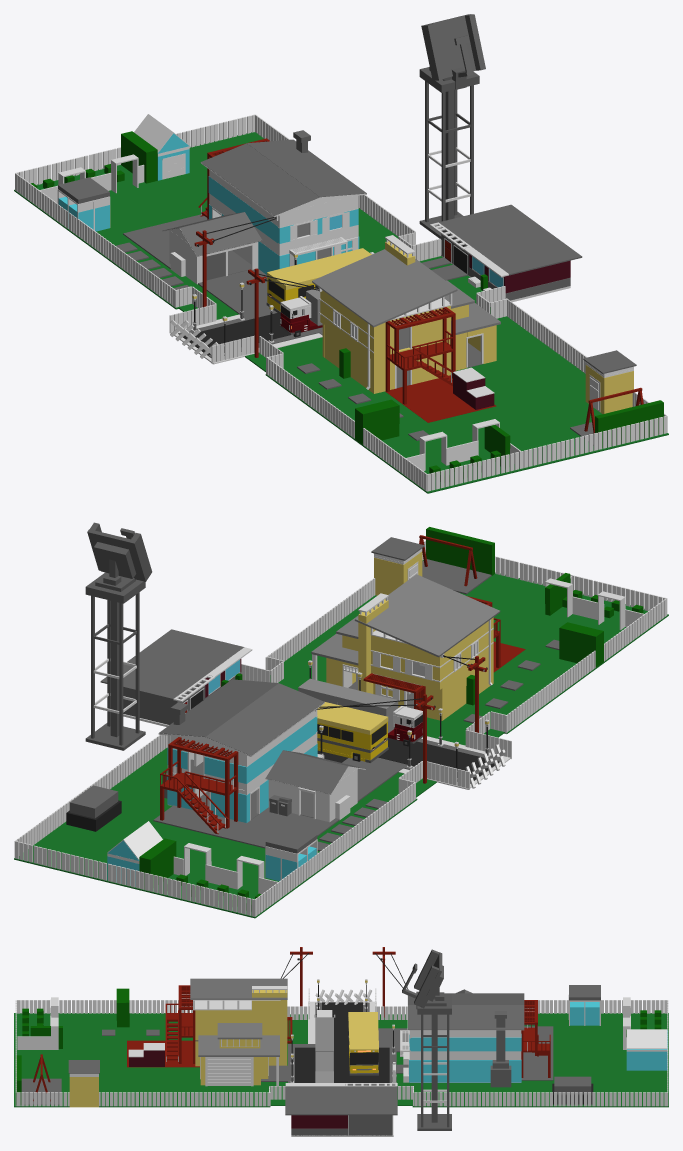
Rendered from nuketown_from_call_of_duty_cod_warzonecodm.glb.
3 renders of one model, top to bottom at view 1: azimuth 30°, elevation 25°; view 2: azimuth 150°, elevation 25°; view 3: azimuth 270°, elevation 25°, orthographic. The views are drawn at different scales.
Visible parts, largest first — view 1: New shape.041, New shape.042, New shape.419, New shape.027, New shape.169, New shape.171, New shape.203, New shape.638, New shape.204, New shape.040, New shape.1265, New shape.174 (+22 smaller); view 2: New shape.041, New shape.042, New shape.419, New shape.027, New shape.169, New shape.205, New shape.171, New shape.637, New shape.084, New shape.174, New shape.040, New shape.085 (+34 smaller); view 3: New shape.041, New shape.042, New shape.027, New shape.171, New shape.134, New shape.370, New shape, New shape.419, New shape.161, New shape.040, New shape.133, New shape.351 (+41 smaller).
Part boxes in pixels (x1=…): New shape.041: x1=265, y1=316, x2=668, y2=493; New shape.042: x1=14, y1=132, x2=398, y2=309; New shape.419: x1=312, y1=249, x2=457, y2=327; New shape.027: x1=439, y1=204, x2=582, y2=275; New shape.169: x1=201, y1=143, x2=319, y2=215; New shape.171: x1=247, y1=139, x2=366, y2=197; New shape.203: x1=385, y1=375, x2=496, y2=422; New shape.638: x1=179, y1=212, x2=261, y2=256; New shape.204: x1=198, y1=269, x2=270, y2=317; New shape.040: x1=179, y1=259, x2=490, y2=371; New shape.1265: x1=421, y1=14, x2=475, y2=78; New shape.174: x1=183, y1=313, x2=321, y2=355; New shape.041: x1=284, y1=560, x2=668, y2=733; New shape.042: x1=14, y1=747, x2=417, y2=918; New shape.419: x1=354, y1=574, x2=500, y2=657; New shape.027: x1=100, y1=629, x2=244, y2=699; New shape.169: x1=205, y1=683, x2=324, y2=755; New shape.205: x1=153, y1=805, x2=339, y2=848; New shape.171: x1=159, y1=679, x2=278, y2=736; New shape.637: x1=265, y1=750, x2=347, y2=794; New shape.084: x1=426, y1=527, x2=494, y2=575; New shape.174: x1=378, y1=738, x2=498, y2=780; New shape.040: x1=270, y1=675, x2=503, y2=797; New shape.085: x1=559, y1=622, x2=603, y2=667; New shape.041: x1=14, y1=1013, x2=270, y2=1107; New shape.042: x1=412, y1=1013, x2=668, y2=1107; New shape.027: x1=285, y1=1086, x2=397, y2=1115; New shape.171: x1=408, y1=1005, x2=524, y2=1029; New shape.134: x1=411, y1=1060, x2=521, y2=1082; New shape.370: x1=195, y1=1010, x2=279, y2=1066; New shape: x1=295, y1=1047, x2=389, y2=1084; New shape.419: x1=190, y1=978, x2=287, y2=999; New shape.161: x1=409, y1=1030, x2=521, y2=1082; New shape.040: x1=270, y1=1014, x2=414, y2=1105; New shape.133: x1=410, y1=1037, x2=521, y2=1051; New shape.351: x1=198, y1=1035, x2=279, y2=1056.
Bounding box in the file's own units: 1626 × 929 × 3250.
